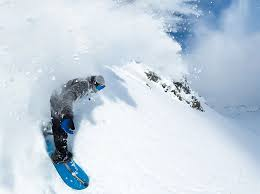snowboard: (39, 118, 91, 190)
